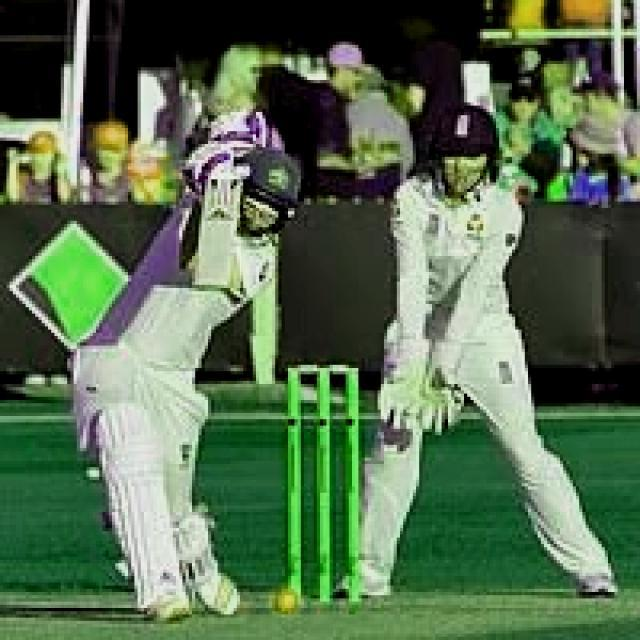bat: (170, 166, 268, 299)
toe: (190, 268, 231, 305)
